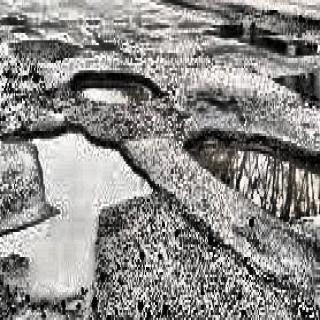pothole: (0, 112, 158, 310), (168, 116, 320, 241), (65, 62, 166, 112)
